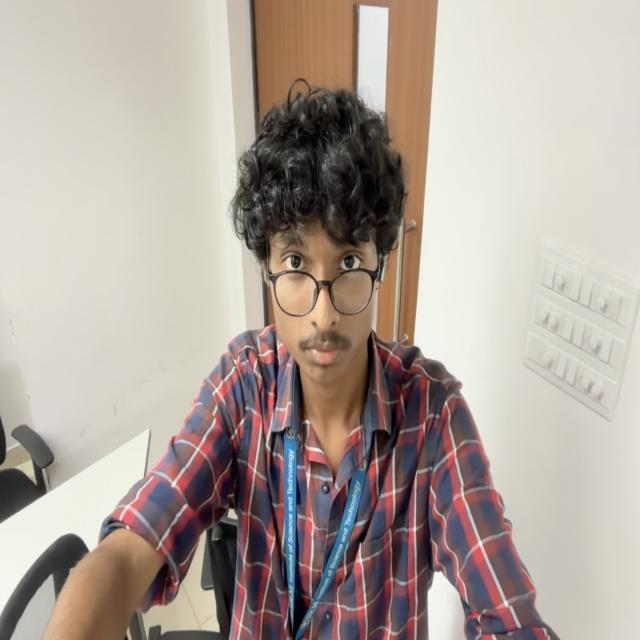darshan: (234, 84, 417, 386)
